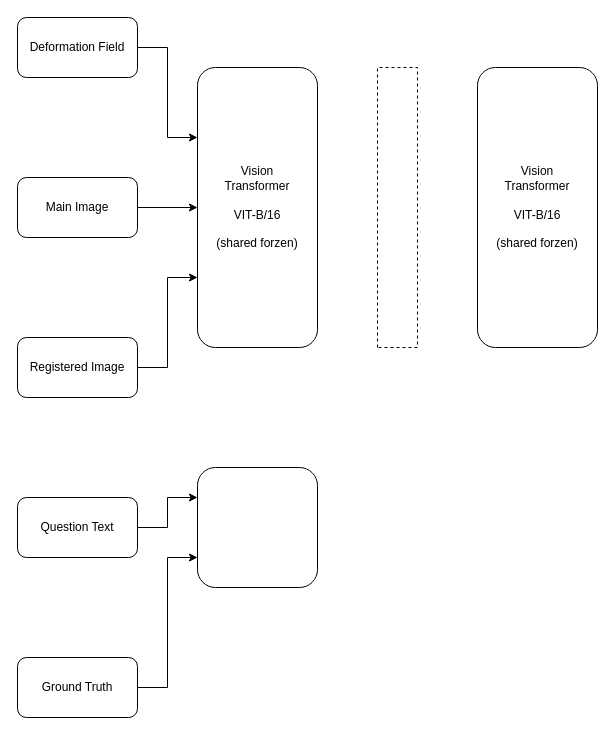
Image size: 615x735. Some labels were removed from this diagram. The shapes that lost their labels are listed below. From the top down, each one's box as (x1, y1, x2, y2) in pixels, then its label:
(376, 66, 418, 348): feature_A, feature_B, feature_C
(196, 466, 318, 588): ClinicalBERT (frozen)
